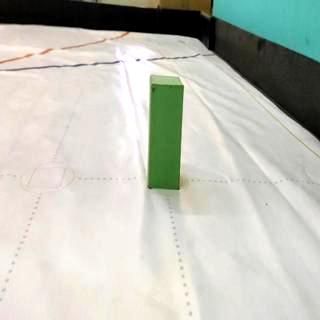greenbox: (148, 73, 184, 191)
